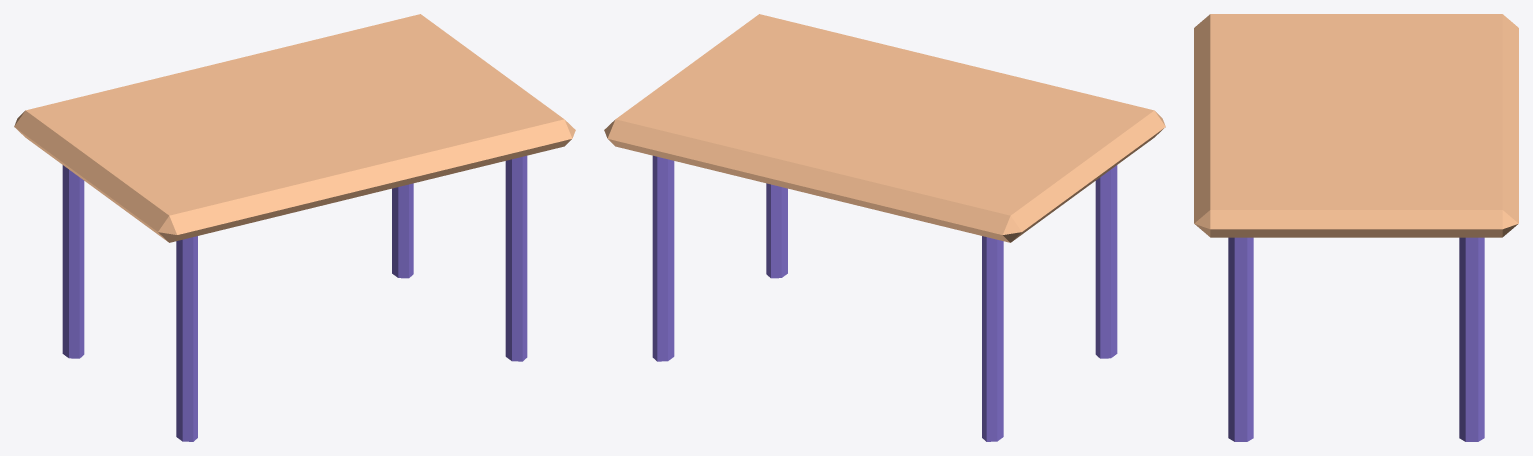
The picture shows the model from 3 angles, left to right: view 1: azimuth 30°, elevation 25°; view 2: azimuth 150°, elevation 25°; view 3: azimuth 270°, elevation 25°; orthographic projection.
Parts seen in each view (by area): view 1: Rounded table top, Leg.002, Leg, Leg.001, Leg.003; view 2: Rounded table top, Leg.003, Leg.001, Leg, Leg.002; view 3: Rounded table top, Leg.002, Leg.003.
Boxes of the visible parts, x1=… form: Rounded table top: x1=14, y1=14, x2=575, y2=242; Leg.002: x1=505, y1=155, x2=527, y2=361; Leg: x1=176, y1=236, x2=197, y2=441; Leg.001: x1=62, y1=165, x2=84, y2=358; Leg.003: x1=392, y1=183, x2=413, y2=278; Rounded table top: x1=604, y1=14, x2=1165, y2=242; Leg.003: x1=652, y1=155, x2=674, y2=361; Leg.001: x1=982, y1=236, x2=1003, y2=441; Leg: x1=1095, y1=165, x2=1117, y2=358; Leg.002: x1=766, y1=183, x2=787, y2=278; Rounded table top: x1=1194, y1=14, x2=1518, y2=237; Leg.002: x1=1228, y1=237, x2=1253, y2=441; Leg.003: x1=1459, y1=237, x2=1484, y2=441.
Size of the model in its own units: 115 by 63.6 by 76.5.
